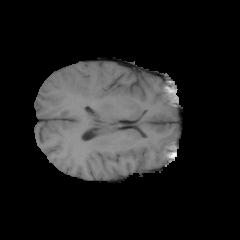glioma: (62, 68, 104, 106)
